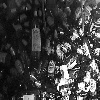beer: (28, 1, 41, 65)
